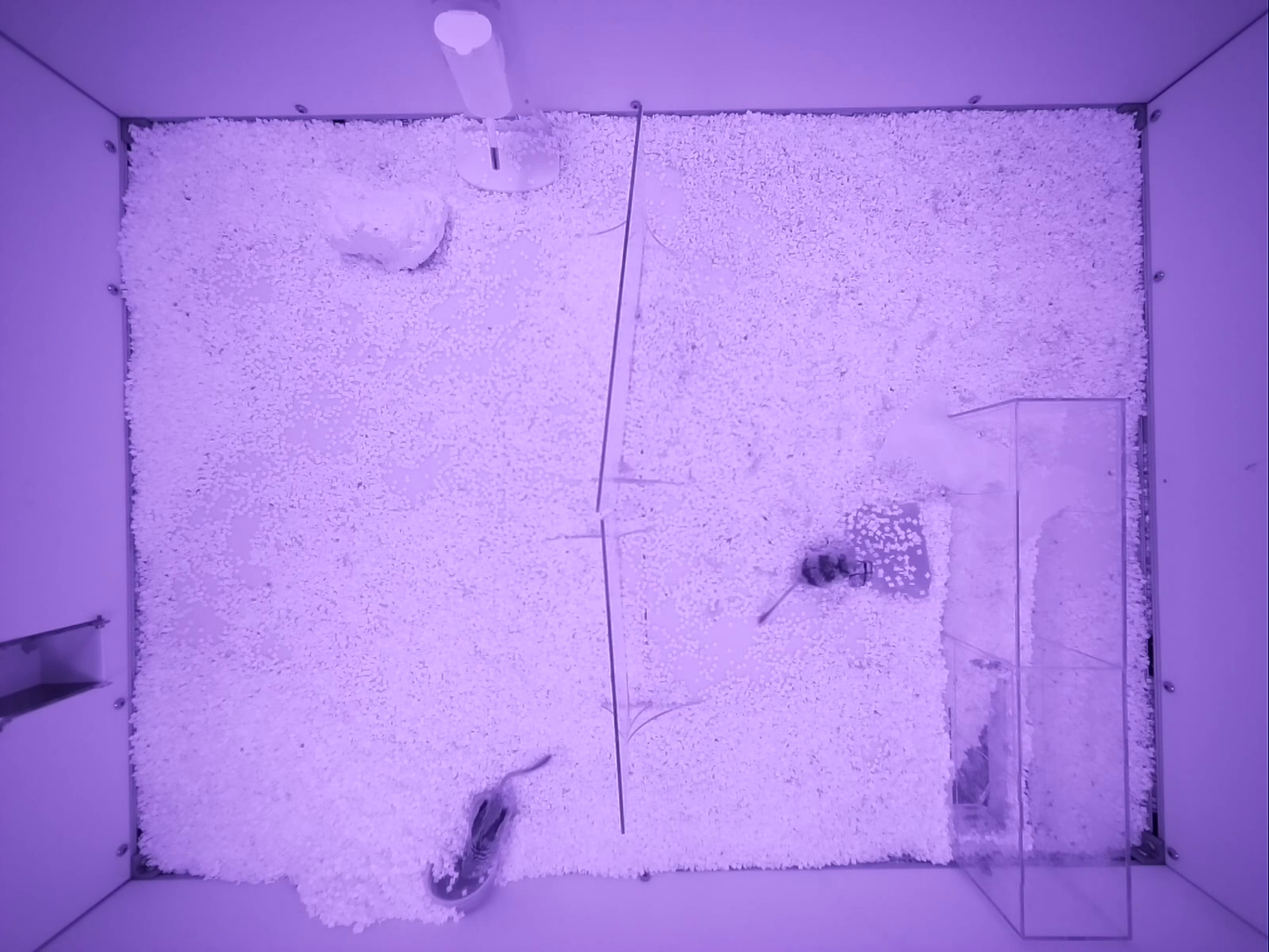adult_back: (456, 754, 550, 877), (757, 551, 872, 625)
